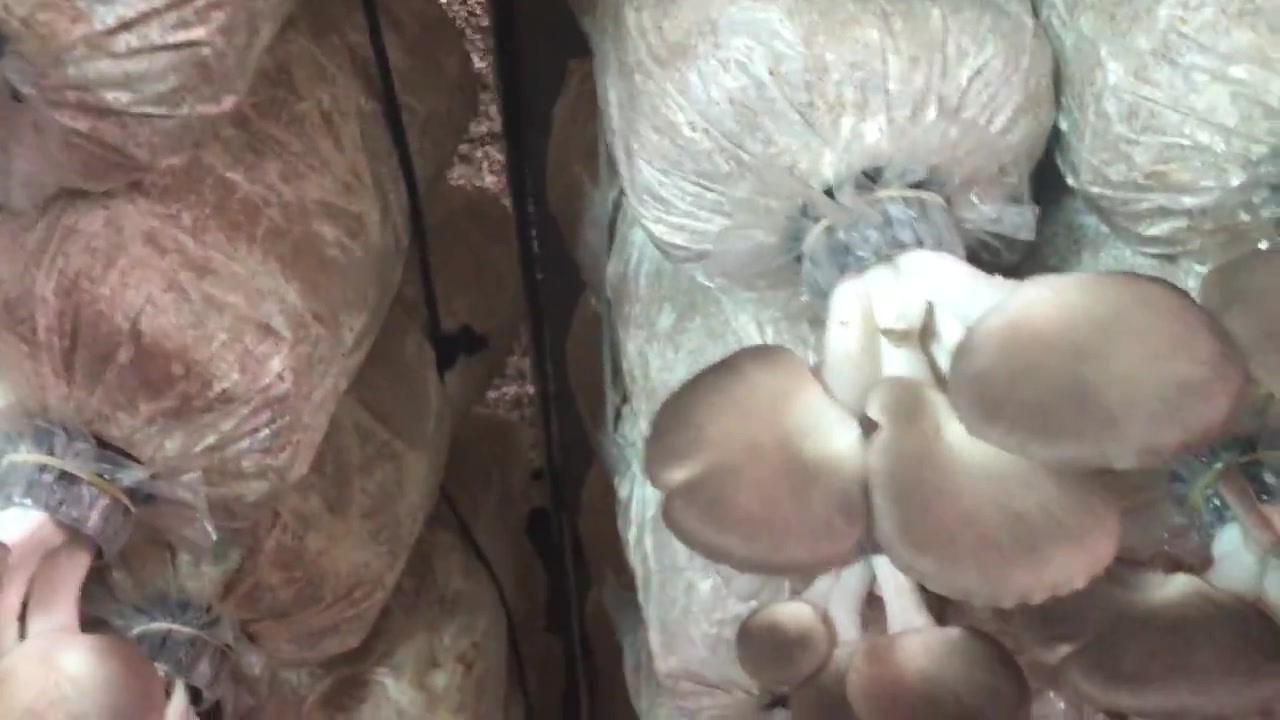nam: (648, 191, 1242, 598), (993, 442, 1280, 720), (738, 556, 1028, 720), (1, 446, 167, 720)
